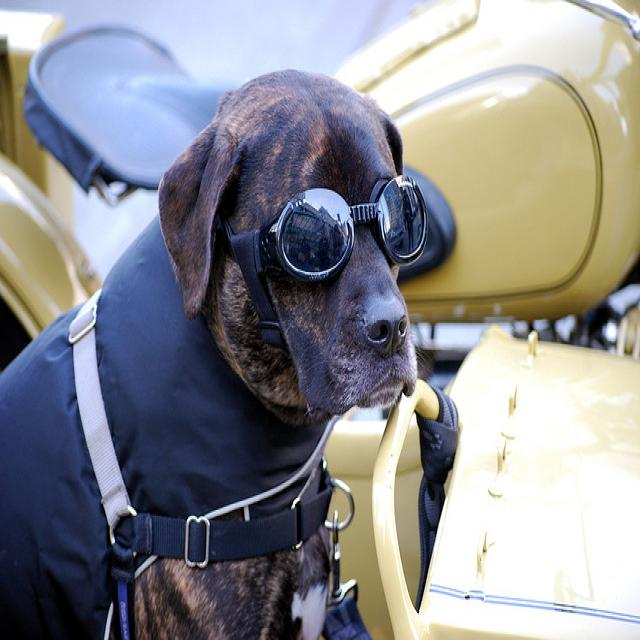motor: (2, 1, 638, 535)
